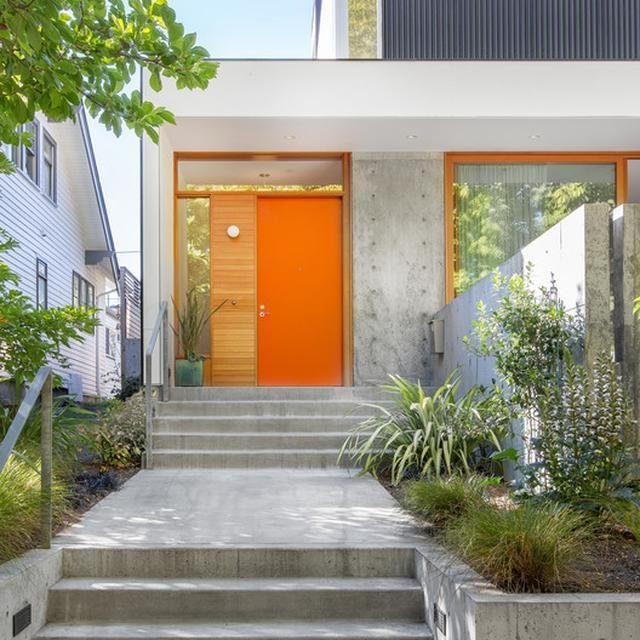building: (134, 0, 640, 382), (0, 20, 126, 397)
